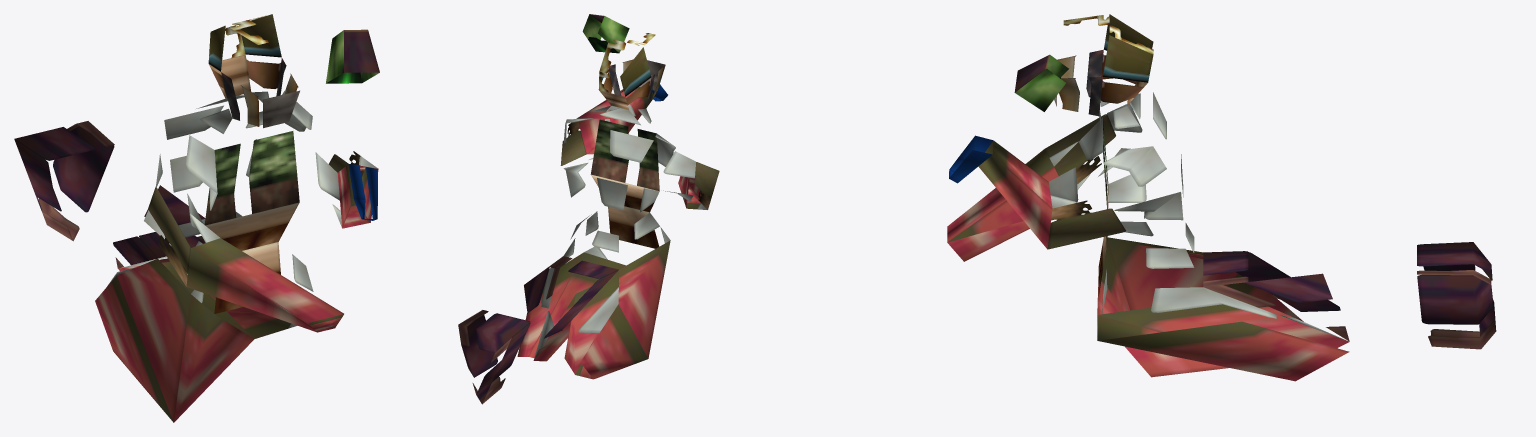
The picture shows the model from 3 angles, left to right: view 1: azimuth 30°, elevation 25°; view 2: azimuth 150°, elevation 25°; view 3: azimuth 270°, elevation 25°; orthographic projection. The views are drawn at different scales.
Parts seen in each view (by area): view 1: T1L2M009_2; view 2: T1L2M009_2; view 3: T1L2M009_2.
Boxes of the visible parts, left/top/right/bottom form: T1L2M009_2: left=14, top=14, right=379, bottom=422; T1L2M009_2: left=458, top=14, right=719, bottom=404; T1L2M009_2: left=947, top=14, right=1496, bottom=381.
Size of the model in its own units: 0.5391 by 1.13 by 1.87.
